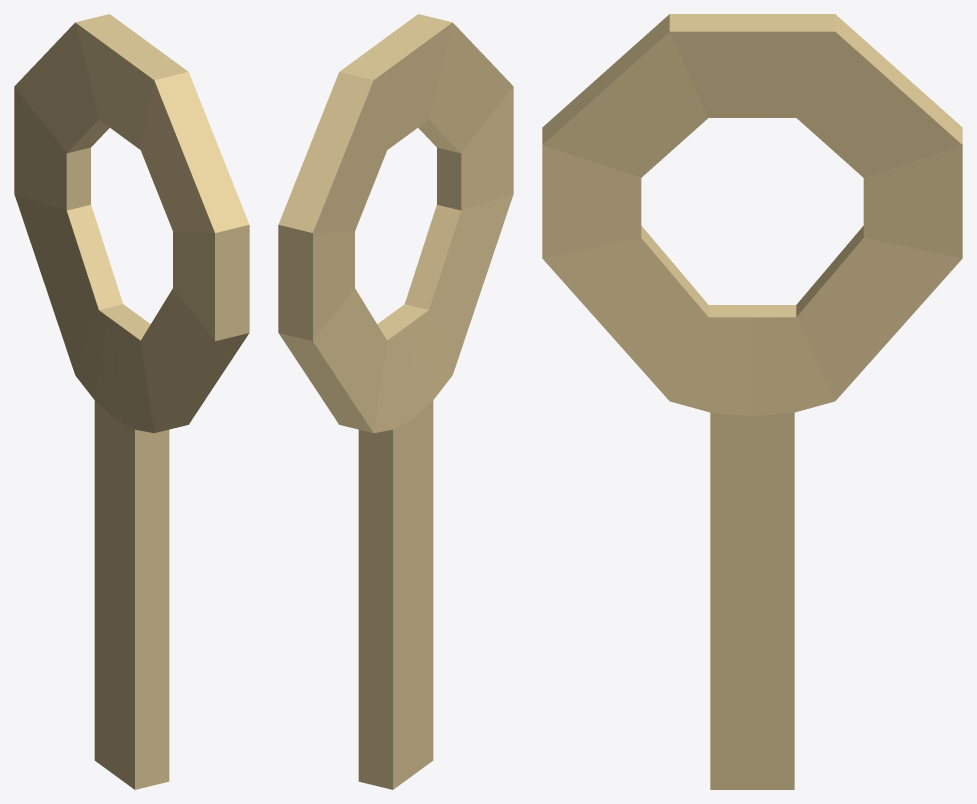
File: Key_LOD_low.fbx
The picture shows the model from 3 angles, left to right: view 1: azimuth 30°, elevation 25°; view 2: azimuth 150°, elevation 25°; view 3: azimuth 270°, elevation 25°; orthographic projection. The views are drawn at different scales.
Parts seen in each view (by area): view 1: SM_Key_LOD_low; view 2: SM_Key_LOD_low; view 3: SM_Key_LOD_low.
Part boxes in pixels (x1,y1,x2,y2): SM_Key_LOD_low: (14,14,249,789); SM_Key_LOD_low: (278,14,513,789); SM_Key_LOD_low: (542,14,962,789).
Bounding box in the file's own units: 7.27 × 146 × 73.34.
